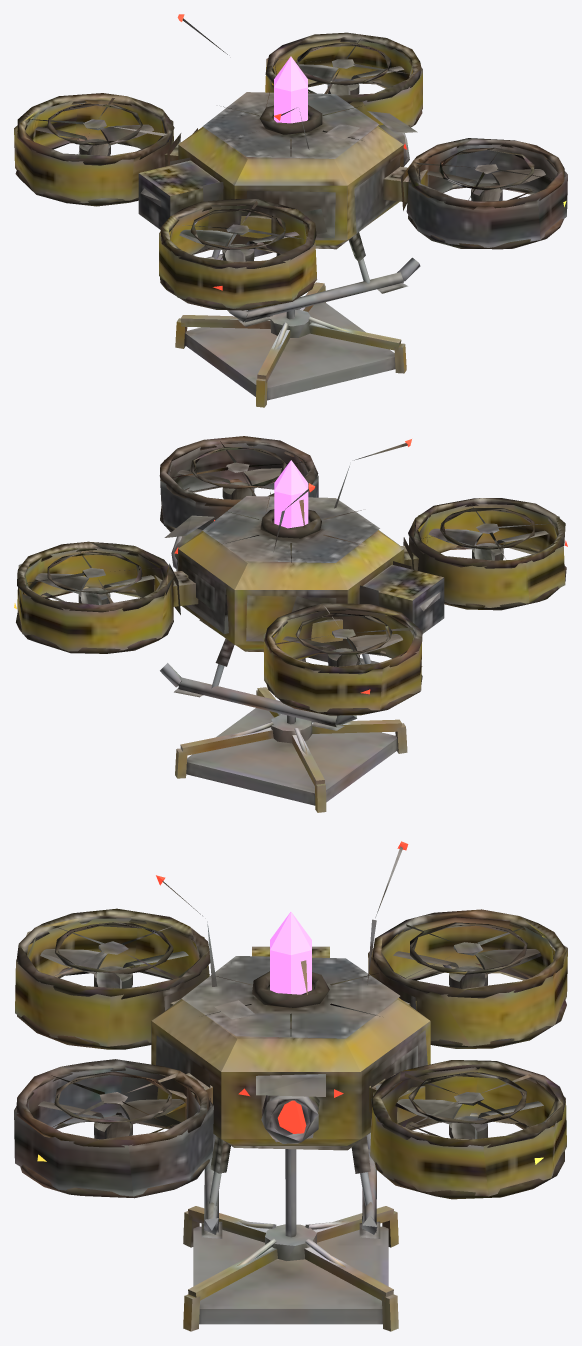
File: drone_logistico.glb
The picture shows the model from 3 angles, top to bottom: view 1: azimuth 30°, elevation 25°; view 2: azimuth 150°, elevation 25°; view 3: azimuth 270°, elevation 25°; orthographic projection. The views are drawn at different scales.
Parts seen in each view (by area): view 1: drone_logistico_corpo, drone_logistico_carga, drone_logistico_pendulo.001, drone_logistico_n0, drone_logistico_rotor2.001, drone_logistico_rotor3.001, drone_logistico_rotor1.001, drone_logistico_rotor0.001; view 2: drone_logistico_corpo, drone_logistico_carga, drone_logistico_pendulo.001, drone_logistico_n0, drone_logistico_rotor1.001, drone_logistico_rotor2.001, drone_logistico_rotor0.001, drone_logistico_rotor3.001; view 3: drone_logistico_corpo, drone_logistico_carga, drone_logistico_pendulo.001, drone_logistico_n0, drone_logistico_rotor3.001, drone_logistico_rotor1.001, drone_logistico_rotor0.001, drone_logistico_rotor2.001.
Boxes of the visible parts, <box> form: drone_logistico_corpo: <box>14,18,567,326</box>; drone_logistico_carga: <box>184,302,395,400</box>; drone_logistico_pendulo.001: <box>175,249,406,407</box>; drone_logistico_n0: <box>177,14,566,290</box>; drone_logistico_rotor2.001: <box>179,229,299,261</box>; drone_logistico_rotor3.001: <box>426,169,545,201</box>; drone_logistico_rotor1.001: <box>35,124,153,155</box>; drone_logistico_rotor0.001: <box>299,64,403,95</box>; drone_logistico_corpo: <box>16,436,566,730</box>; drone_logistico_carga: <box>186,708,397,805</box>; drone_logistico_pendulo.001: <box>175,653,407,812</box>; drone_logistico_n0: <box>14,439,567,694</box>; drone_logistico_rotor1.001: <box>283,634,402,666</box>; drone_logistico_rotor2.001: <box>428,528,548,560</box>; drone_logistico_rotor0.001: <box>35,573,154,605</box>; drone_logistico_rotor3.001: <box>177,468,281,499</box>; drone_logistico_corpo: <box>14,846,567,1238</box>; drone_logistico_carga: <box>193,1226,388,1324</box>; drone_logistico_pendulo.001: <box>183,1133,398,1331</box>; drone_logistico_n0: <box>37,841,543,1164</box>; drone_logistico_rotor3.001: <box>38,1099,186,1139</box>; drone_logistico_rotor1.001: <box>393,949,541,988</box>; drone_logistico_rotor0.001: <box>395,1099,543,1139</box>; drone_logistico_rotor2.001: <box>40,949,188,988</box>.
Size of the model in its own units: 0.5957 by 0.4813 by 0.5957.
Materials: 5 (1 with a texture image).
